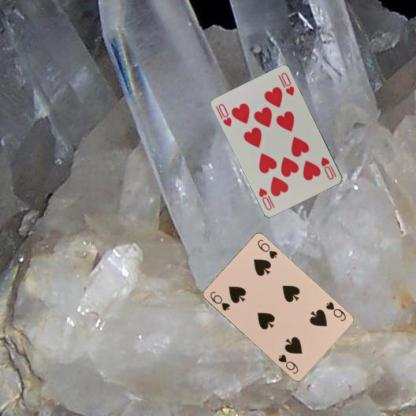10h: (216, 101, 234, 128), (318, 154, 335, 181)
6s: (207, 288, 231, 312), (323, 299, 347, 322)
